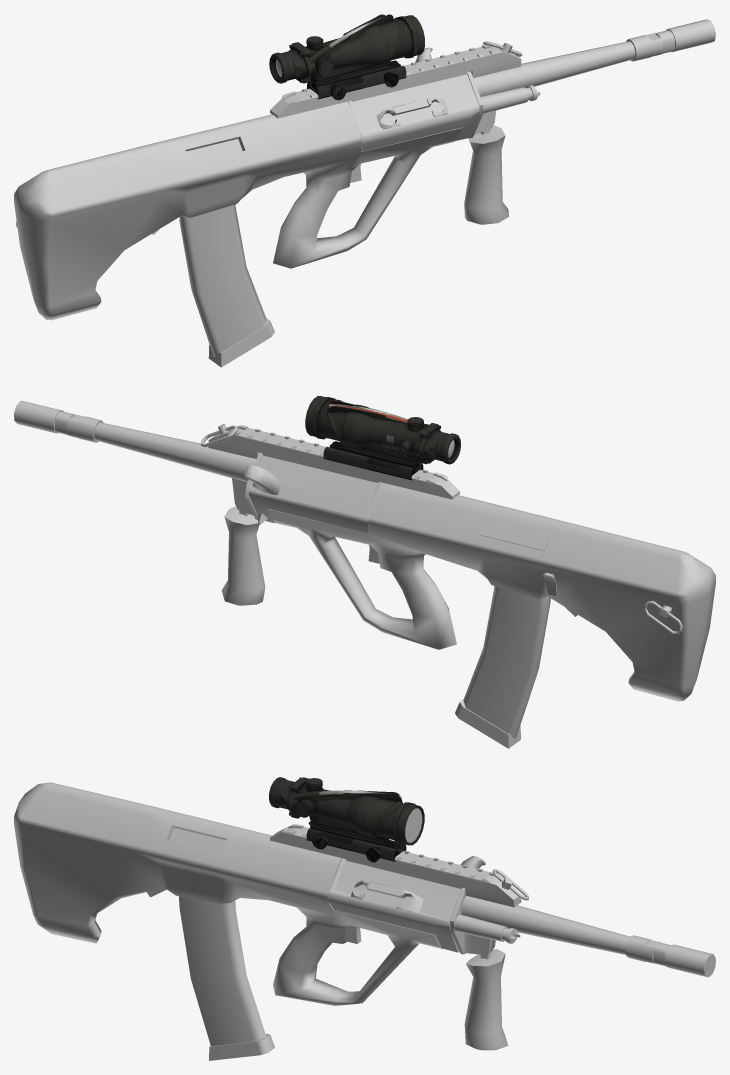
The model's file is w_rif_aug_dropped.FBX.
The picture shows the model from 3 angles, top to bottom: view 1: azimuth 30°, elevation 25°; view 2: azimuth 150°, elevation 25°; view 3: azimuth 330°, elevation 25°; orthographic projection.
Parts seen in each view (by area): view 1: w_rif_aug_dropped_w_rif_aug; view 2: w_rif_aug_dropped_w_rif_aug; view 3: w_rif_aug_dropped_w_rif_aug.
Boxes of the visible parts, x1,y1,x2,y2 form: w_rif_aug_dropped_w_rif_aug: (14, 14, 715, 367); w_rif_aug_dropped_w_rif_aug: (14, 396, 715, 748); w_rif_aug_dropped_w_rif_aug: (14, 777, 715, 1060).
Size of the model in its own units: 33.67 by 14.15 by 4.12.
